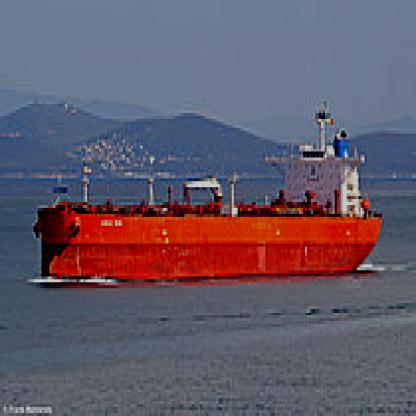Tanker: (28, 116, 380, 282)
